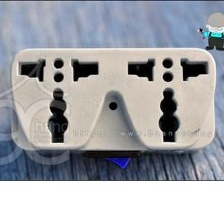three_eye_plug: (5, 40, 220, 156)
